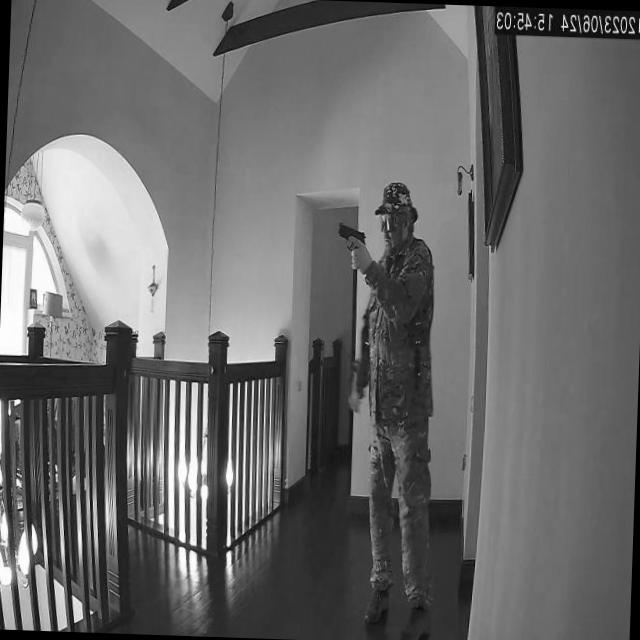gun: (336, 221, 364, 263)
person with a gun: (363, 179, 446, 640)
